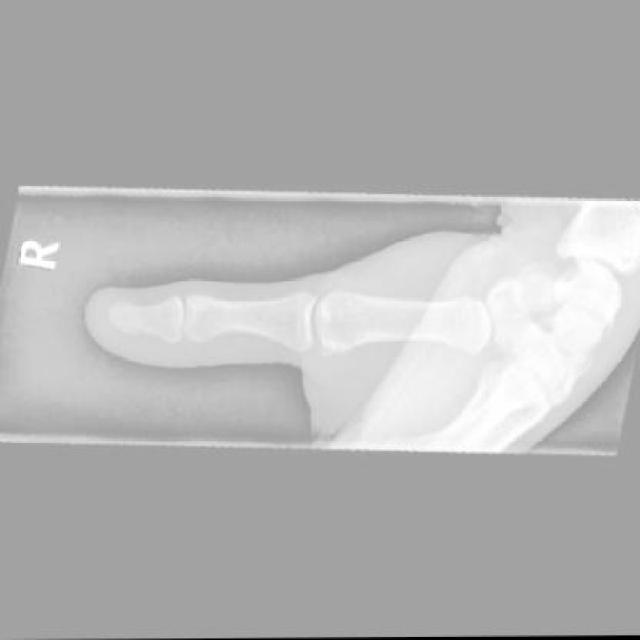Fracture: (128, 300, 159, 340)
